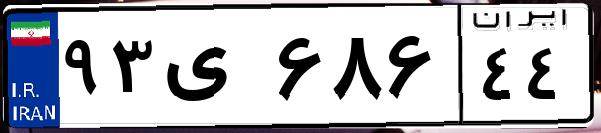3: (110, 28, 158, 98)
4: (475, 38, 525, 113), (525, 38, 570, 115)
6: (270, 28, 330, 110), (385, 28, 445, 110)
8: (330, 28, 385, 110)
9: (57, 26, 110, 100)
ی: (158, 20, 270, 120)
